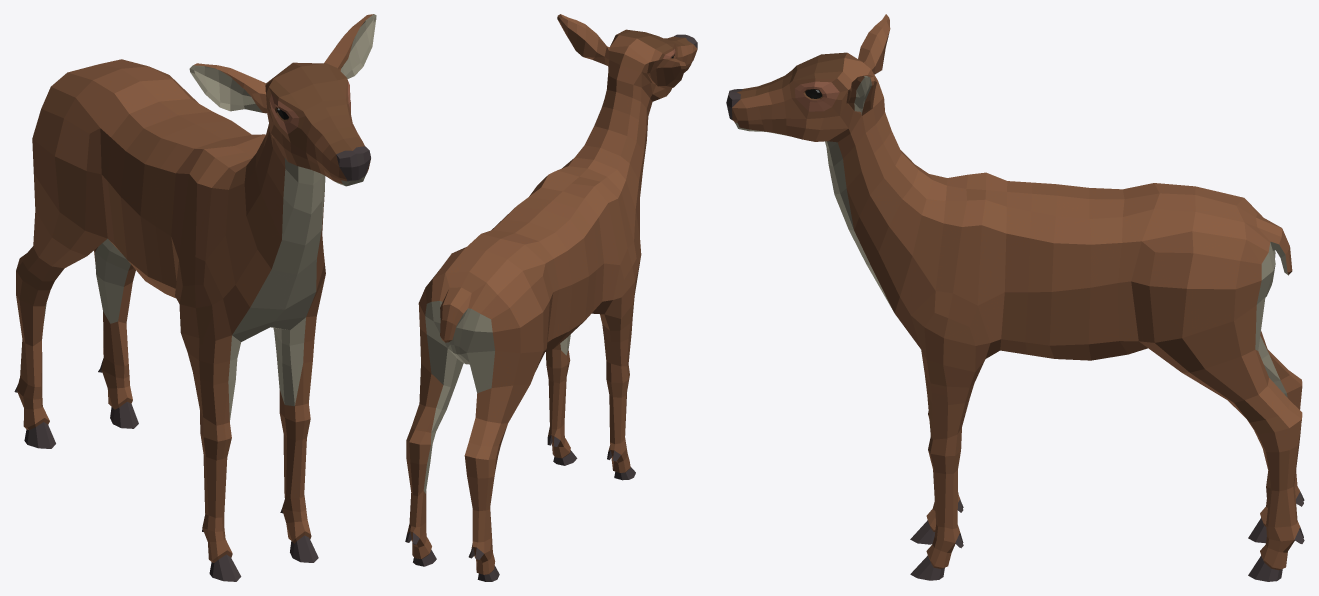
File: Deer.glb
3 views of the same model, side by side, from view 1: azimuth 30°, elevation 25°; view 2: azimuth 150°, elevation 25°; view 3: azimuth 270°, elevation 25° (orthographic). The views are drawn at different scales.
Visible parts, largest first — view 1: Deer_Cube; view 2: Deer_Cube; view 3: Deer_Cube.
Part boxes in pixels (left/top/right/bottom): Deer_Cube: left=14, top=14, right=376, bottom=581; Deer_Cube: left=405, top=14, right=697, bottom=581; Deer_Cube: left=726, top=14, right=1304, bottom=581.
Bounding box in the file's own units: 1.45 × 4.32 × 4.39.
Materials: 1 (1 with a texture image).
